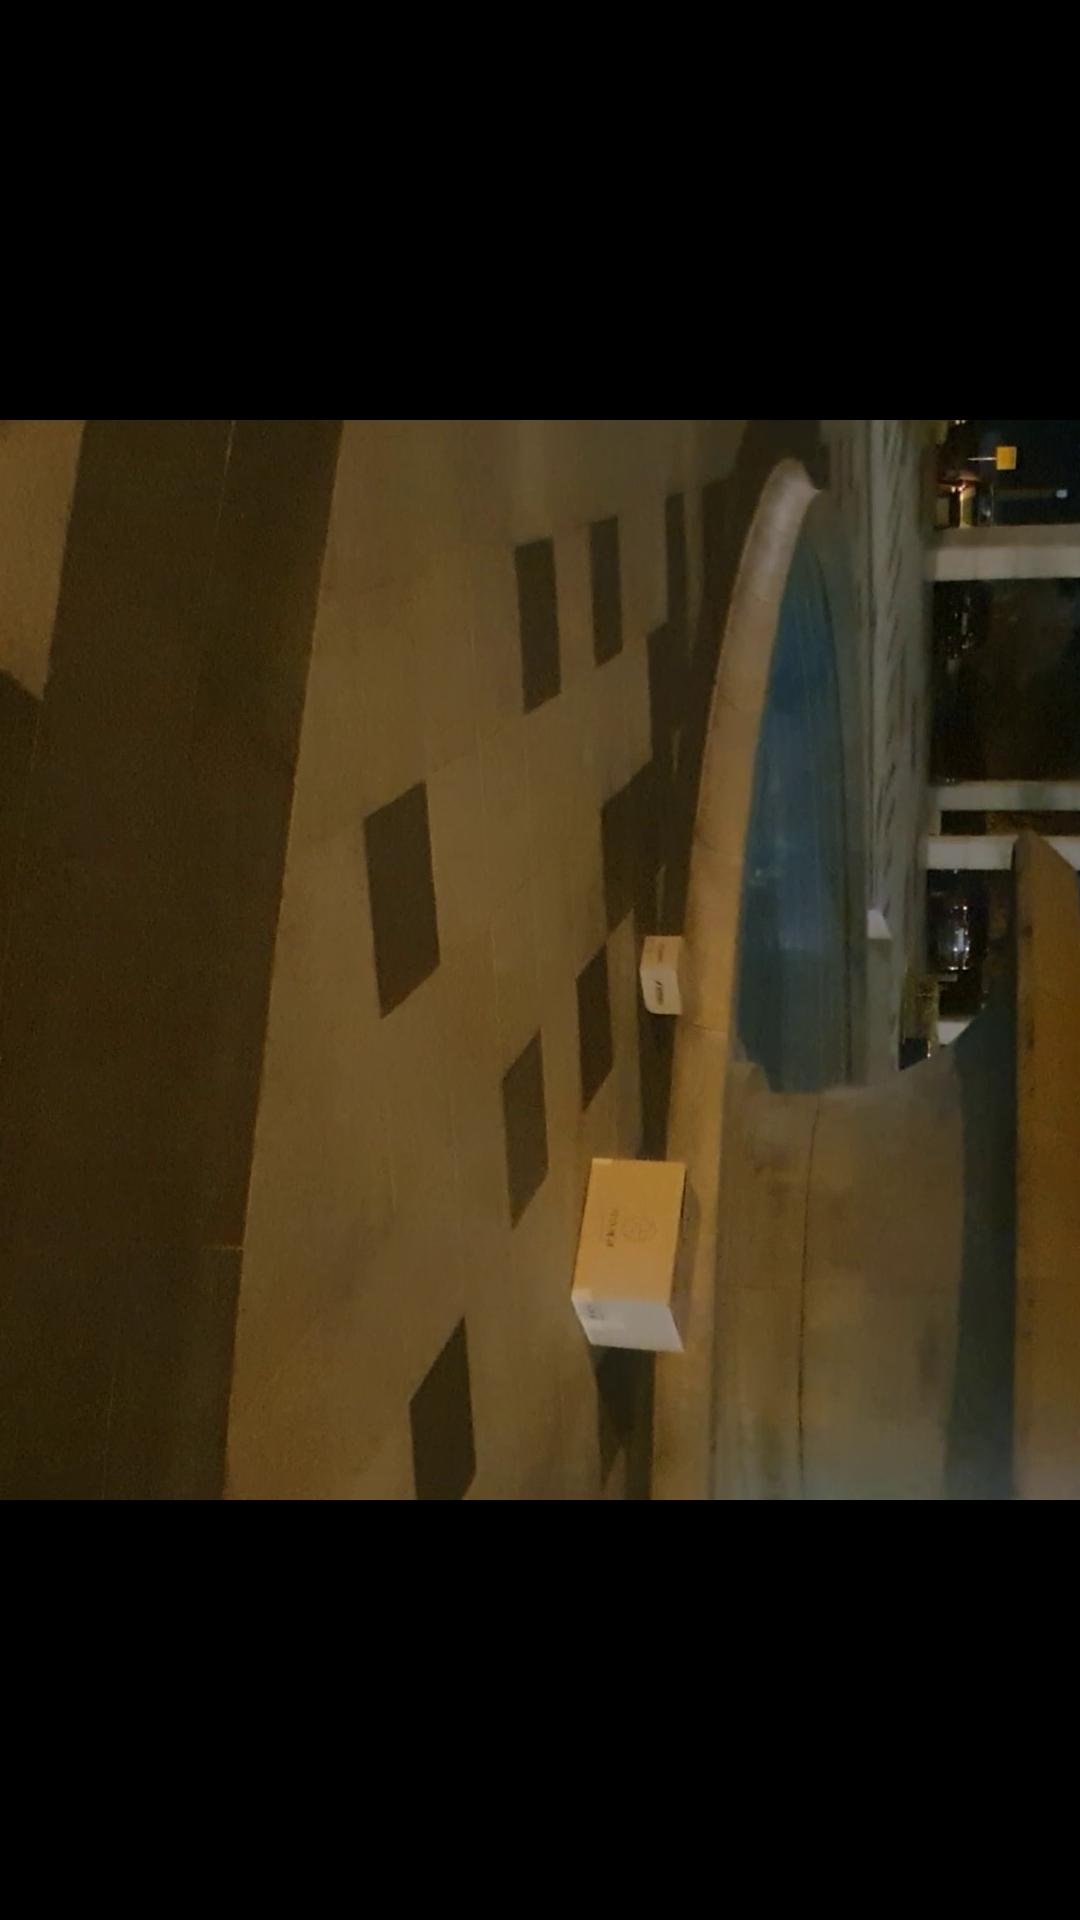Box: (572, 1138, 712, 1342), (622, 926, 709, 1054)
